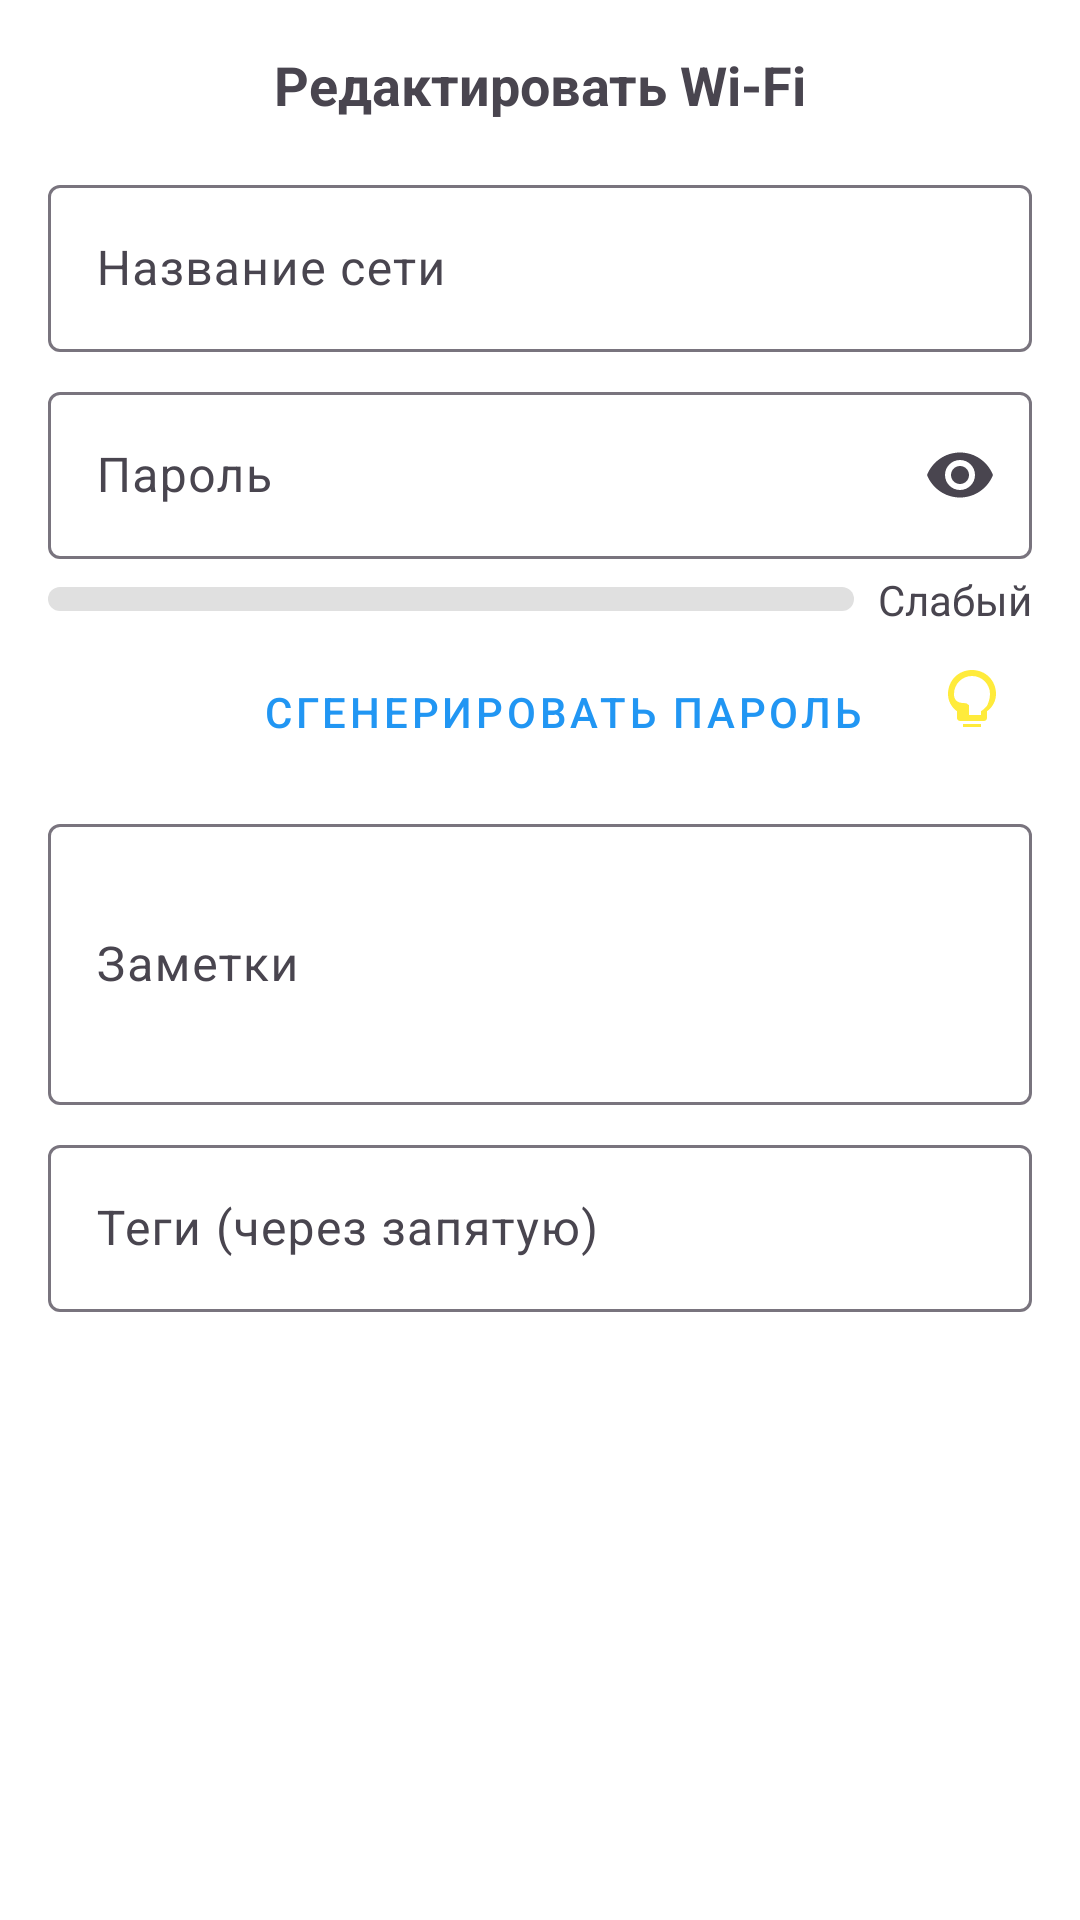

Screen size 1080x1920. Icon name, then its box in pixels as (x1, y1, x2, y2):
Рекомендации по паролю: (948, 670, 996, 727)
